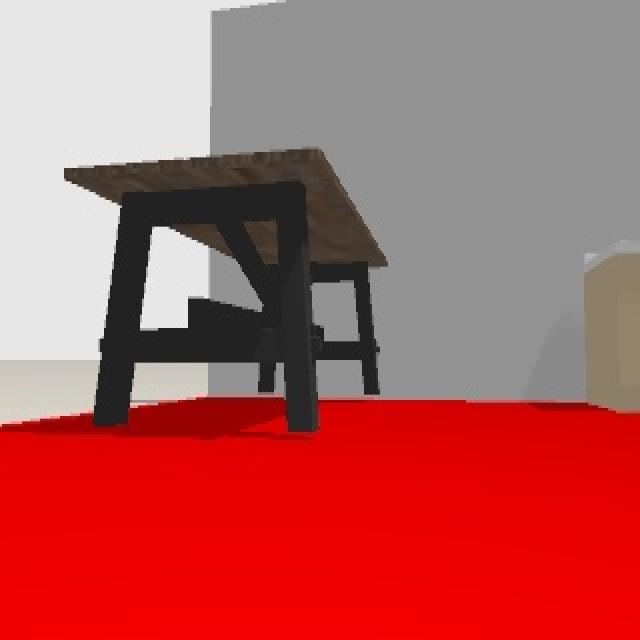dining: (62, 163, 382, 434)
